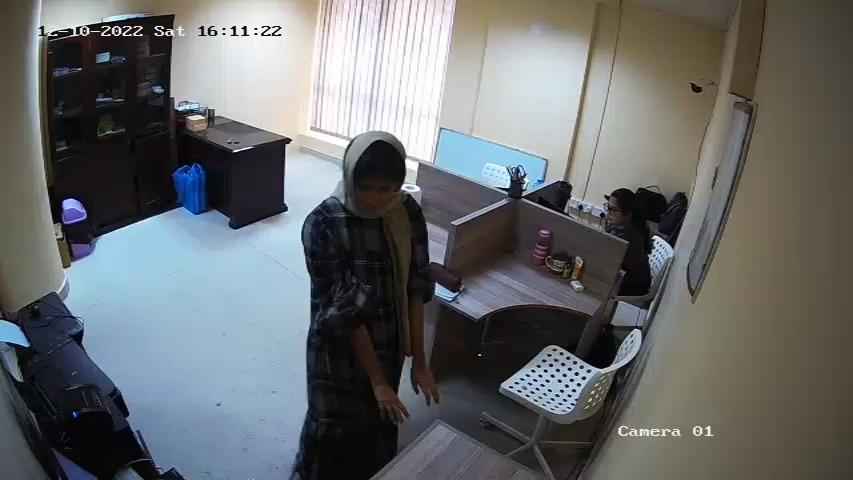no_gloves: (368, 372, 410, 428), (410, 359, 444, 407)
